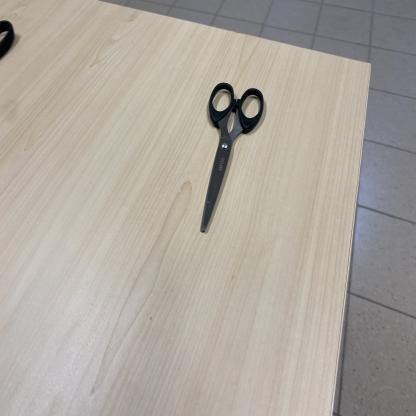scissors: (199, 81, 265, 234), (0, 19, 15, 63)
